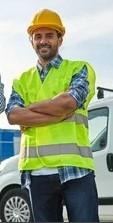hat: (28, 8, 66, 34)
low quality vest: (18, 63, 98, 169)
no protective face gear: (29, 30, 65, 60)
